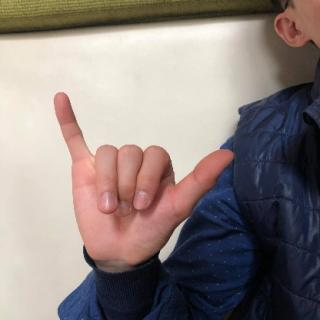YA: (53, 86, 237, 275)
